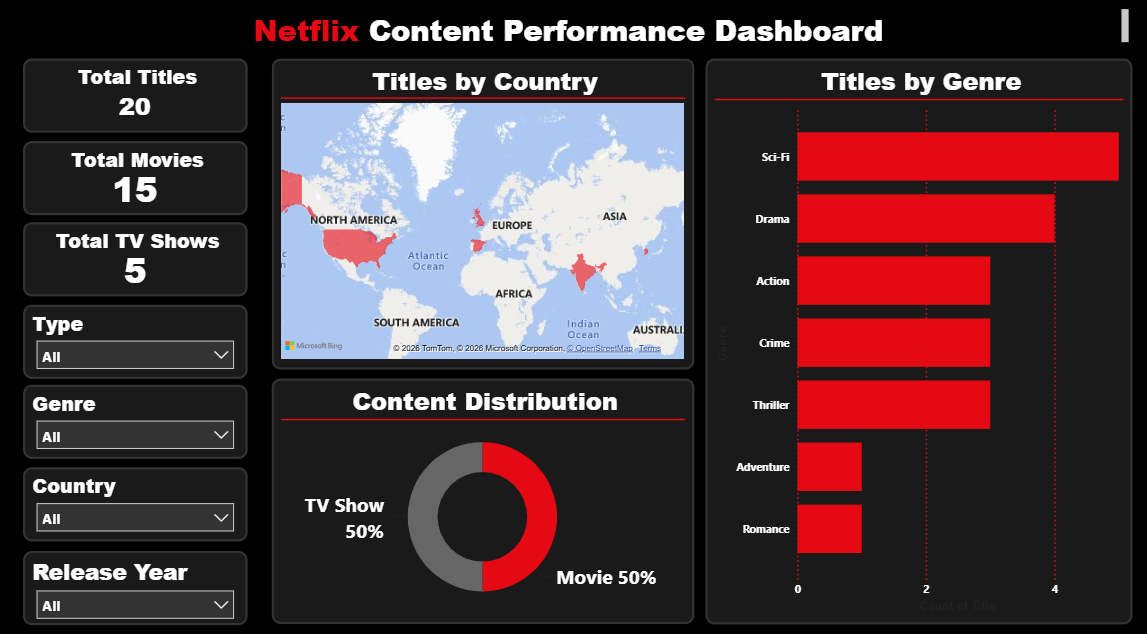

The page's visual inventory and layout, read from the dashboard file:
{"tool":"powerbi","page":{"name":"Netflix Content Performance Dashboard","canvas":[1280,720],"ordinal":0},"visuals":[{"type":"card","title":"Total Titles","fields":{"Values":["NetflixRealData.Total Titles"]},"box":[27.4,70,249.7,82.3],"z":0},{"type":"textbox","title":"Netflix ","box":[13.7,9.6,1247.3,50.8],"z":1000},{"type":"card","title":"Total Movies","fields":{"Values":["NetflixRealData.Total Movies"]},"box":[27.4,160.5,249.7,82.3],"z":2000},{"type":"card","title":"Total TV Shows","fields":{"Values":["NetflixRealData.Total TV Shows"]},"box":[27.4,251.1,249.7,82.3],"z":3000},{"type":"donutChart","title":"Content Distribution","fields":{"Category":["NetflixRealData.Type"],"Y":["NetflixRealData.Total TV Shows"]},"box":[304.6,425.4,469.3,273.1],"z":4000},{"type":"barChart","title":"Titles by Genre","fields":{"Y":["CountNonNull(NetflixRealData.Title)"],"Category":["NetflixRealData.Genre"]},"box":[786.3,70,474.8,628.5],"z":5000},{"type":"filledMap","title":"Titles by Country","fields":{"Category":["NetflixRealData.Country"]},"box":[304.6,70,469.3,345.8],"z":6000},{"type":"slicer","title":"Type","fields":{"Values":["NetflixRealData.Type"]},"box":[27.4,343.1,249.7,82.3],"z":7000},{"type":"slicer","title":"Genre","fields":{"Values":["NetflixRealData.Genre"]},"box":[27.4,432.2,249.7,82.3],"z":8000},{"type":"slicer","title":"Country","fields":{"Values":["NetflixRealData.Country"]},"box":[27.4,524.2,249.7,82.3],"z":9000},{"type":"slicer","title":"Release Year","fields":{"Values":["NetflixRealData.ReleaseYear"]},"box":[27.4,616.1,249.7,82.3],"z":10000}]}

Visuals, with their boxes in screenshot pixels (x1, y1, x2, y2), scaled from the page's 1280x720 canvas onto the 1147x634 screenshot:
"Total Titles" card: (25,62,248,134)
"Netflix " textbox: (12,8,1130,53)
"Total Movies" card: (25,141,248,214)
"Total TV Shows" card: (25,221,248,294)
"Content Distribution" donutChart: (273,375,693,615)
"Titles by Genre" barChart: (705,62,1130,615)
"Titles by Country" filledMap: (273,62,693,366)
"Type" slicer: (25,302,248,375)
"Genre" slicer: (25,381,248,453)
"Country" slicer: (25,462,248,534)
"Release Year" slicer: (25,543,248,615)
